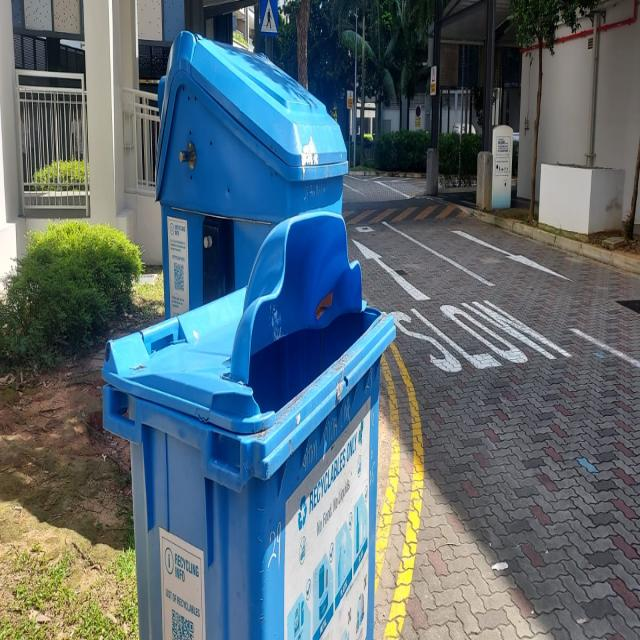bin_empty: (112, 210, 388, 639), (153, 31, 344, 329)
